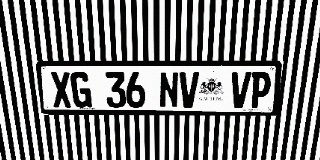3: (105, 72, 126, 108)
6: (125, 72, 145, 108)
G: (70, 72, 92, 108)
N: (159, 72, 179, 108)
P: (249, 72, 272, 108)
V: (229, 72, 251, 108), (179, 72, 199, 108)
X: (50, 72, 72, 108)
